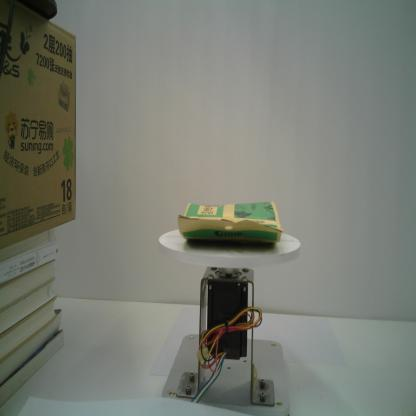Dried Food: (176, 194, 283, 250)
